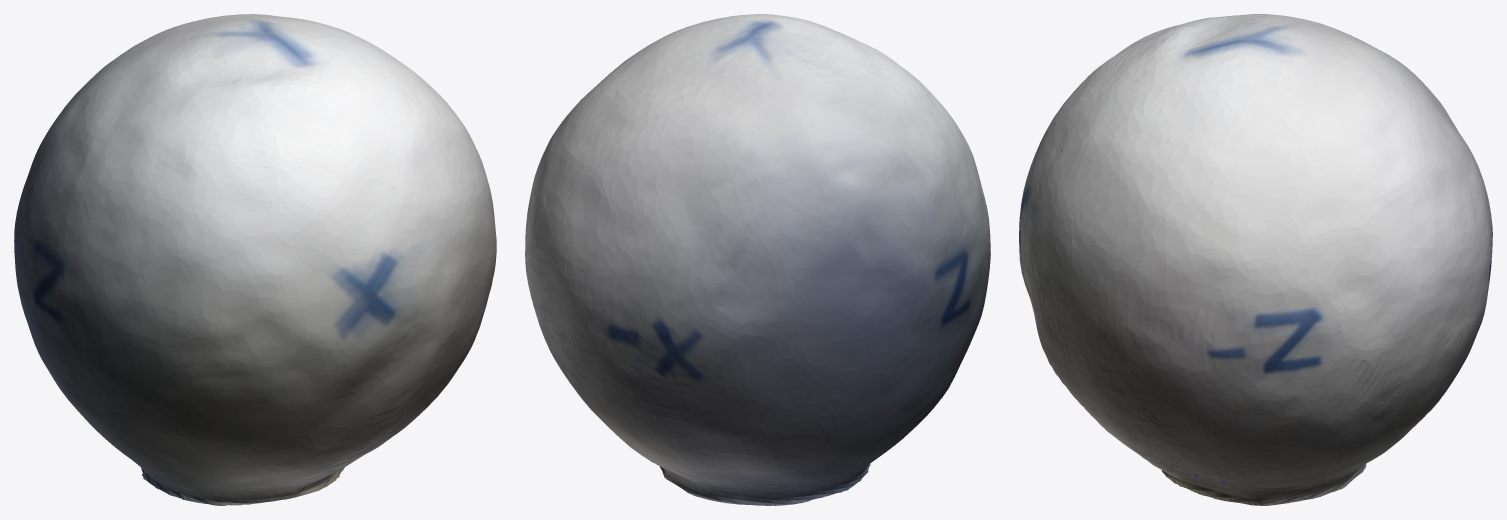
The model's file is sphere_scan_2017_03_02_edited.obj.
3 views of the same model, side by side, from view 1: azimuth 30°, elevation 25°; view 2: azimuth 150°, elevation 25°; view 3: azimuth 270°, elevation 25° (orthographic). The views are drawn at different scales.
Parts seen in each view (by area): view 1: sphere_scan_2017_03_02_obj_sphere_scan_2017_03_02; view 2: sphere_scan_2017_03_02_obj_sphere_scan_2017_03_02; view 3: sphere_scan_2017_03_02_obj_sphere_scan_2017_03_02.
Part boxes in pixels (box(x1,y1,x2,y2)): sphere_scan_2017_03_02_obj_sphere_scan_2017_03_02: box(14, 14, 496, 505); sphere_scan_2017_03_02_obj_sphere_scan_2017_03_02: box(525, 14, 990, 505); sphere_scan_2017_03_02_obj_sphere_scan_2017_03_02: box(1019, 14, 1492, 505).
Size of the model in its own units: 0.6642 by 0.65 by 0.6518.
